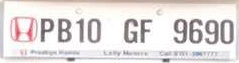character: (203, 18, 219, 45), (123, 16, 138, 44), (86, 18, 102, 44), (218, 18, 234, 44), (57, 17, 72, 43), (39, 17, 54, 42), (172, 18, 187, 43), (188, 18, 203, 43), (139, 17, 152, 44), (76, 17, 84, 43)
